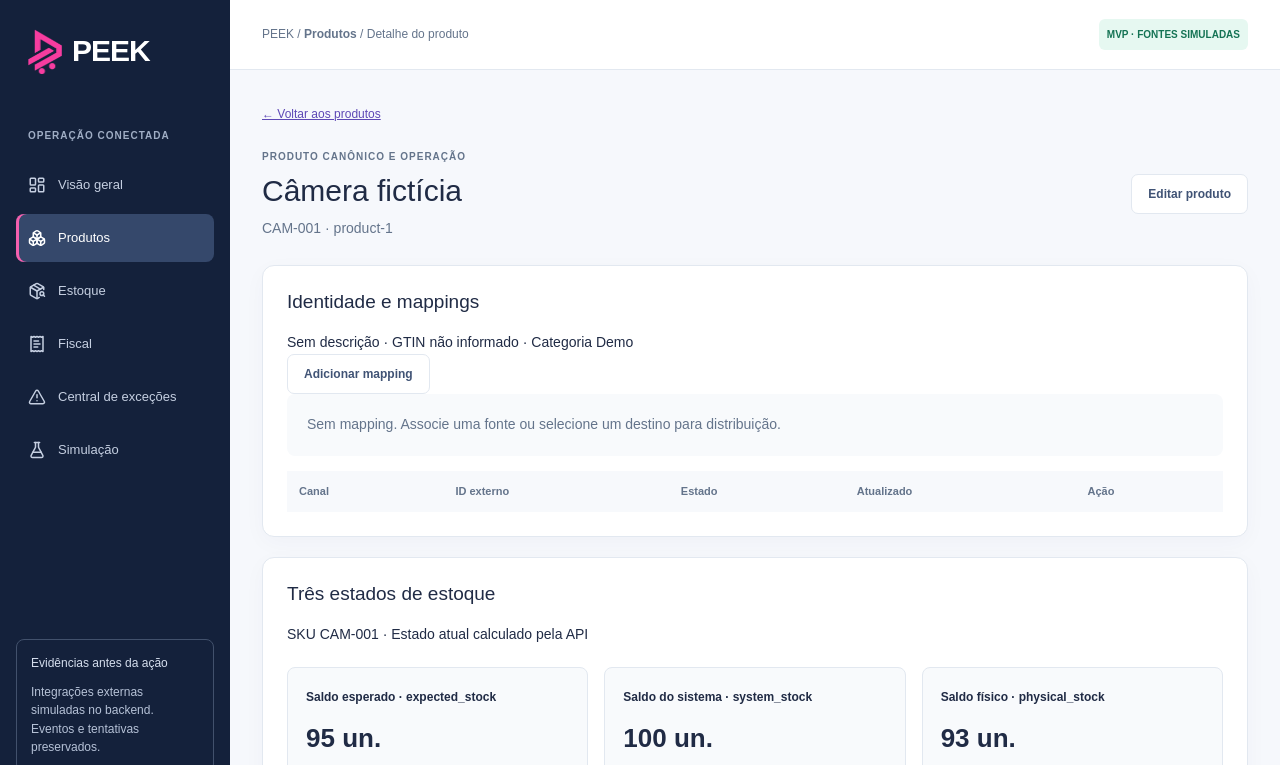
Test: Products and mappings › saves a pending mapping with no external id
Click the button "Adicionar mapping" at (358, 374), box [287,354,430,394]
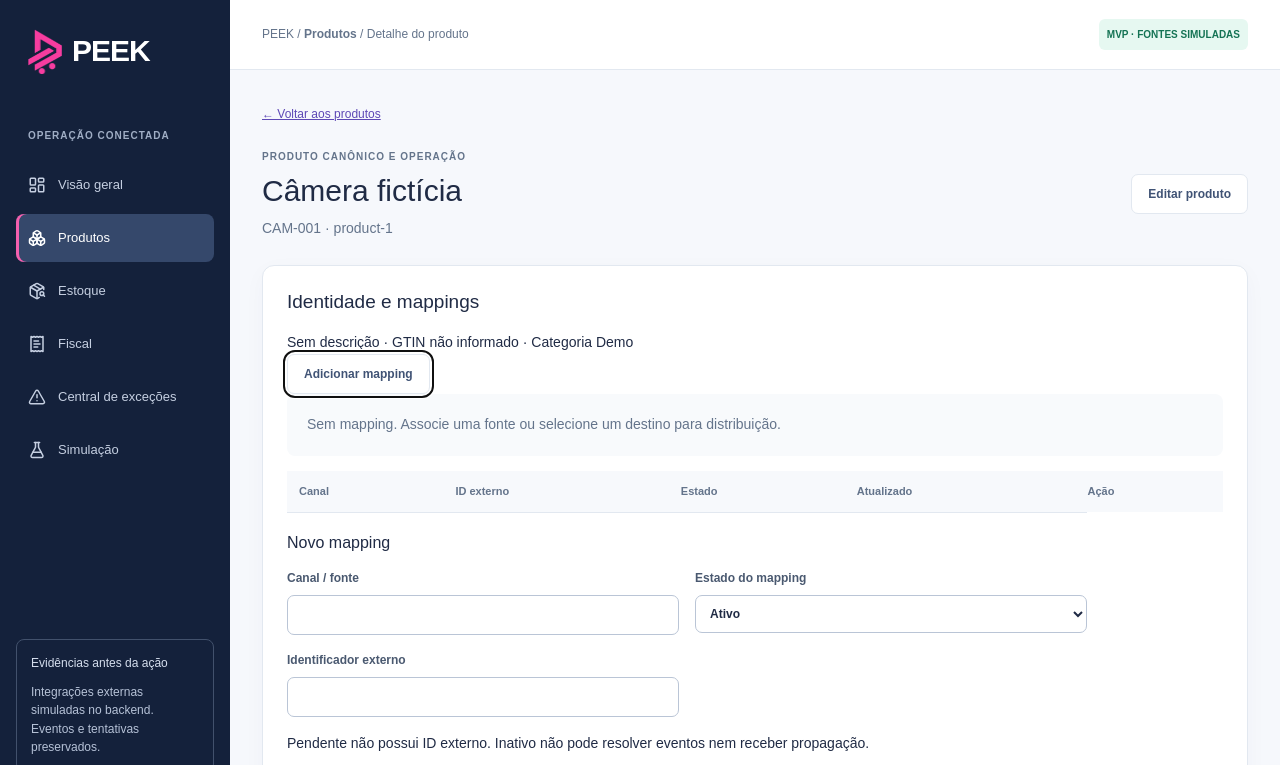
Type "source" into the field labelled "Canal / fonte" at (483, 615), box [287,595,679,635]
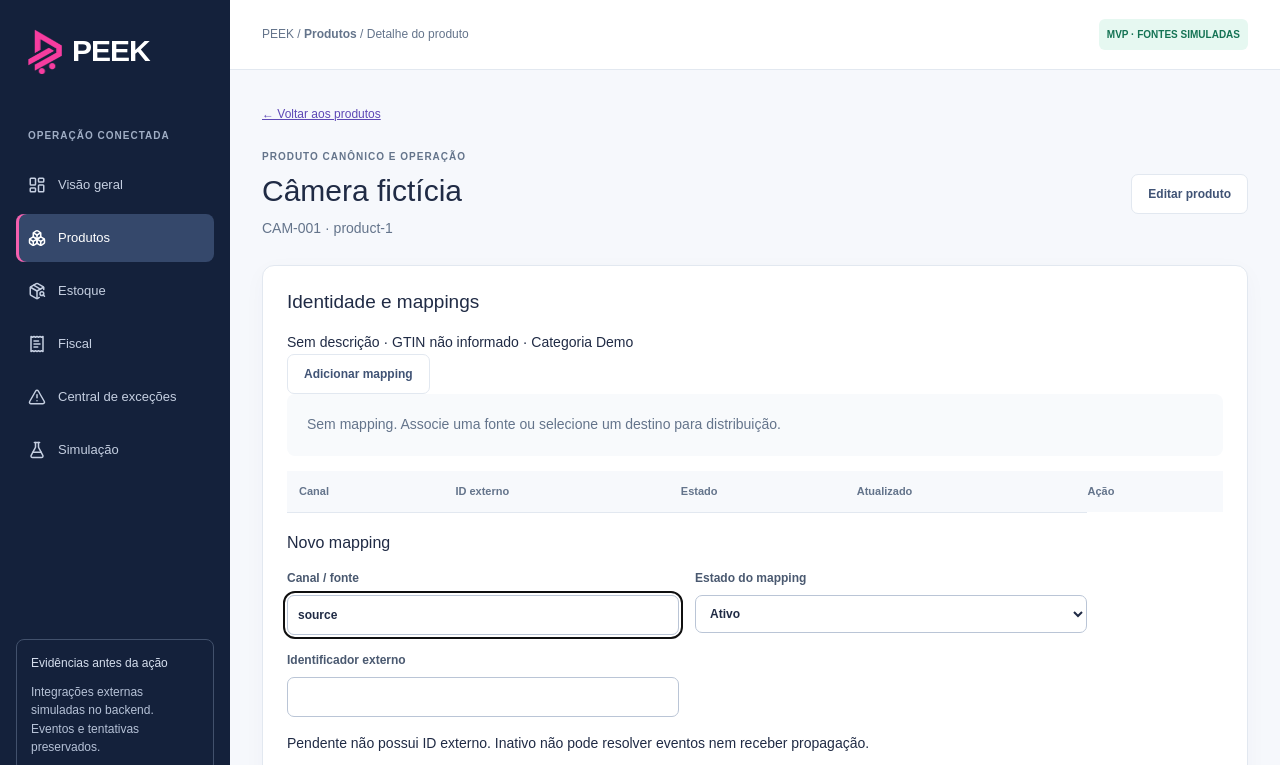
Select "Pendente" in the dropdown labelled "Estado do mapping" at (891, 614), box [695,595,1087,633]
(page scrolled)
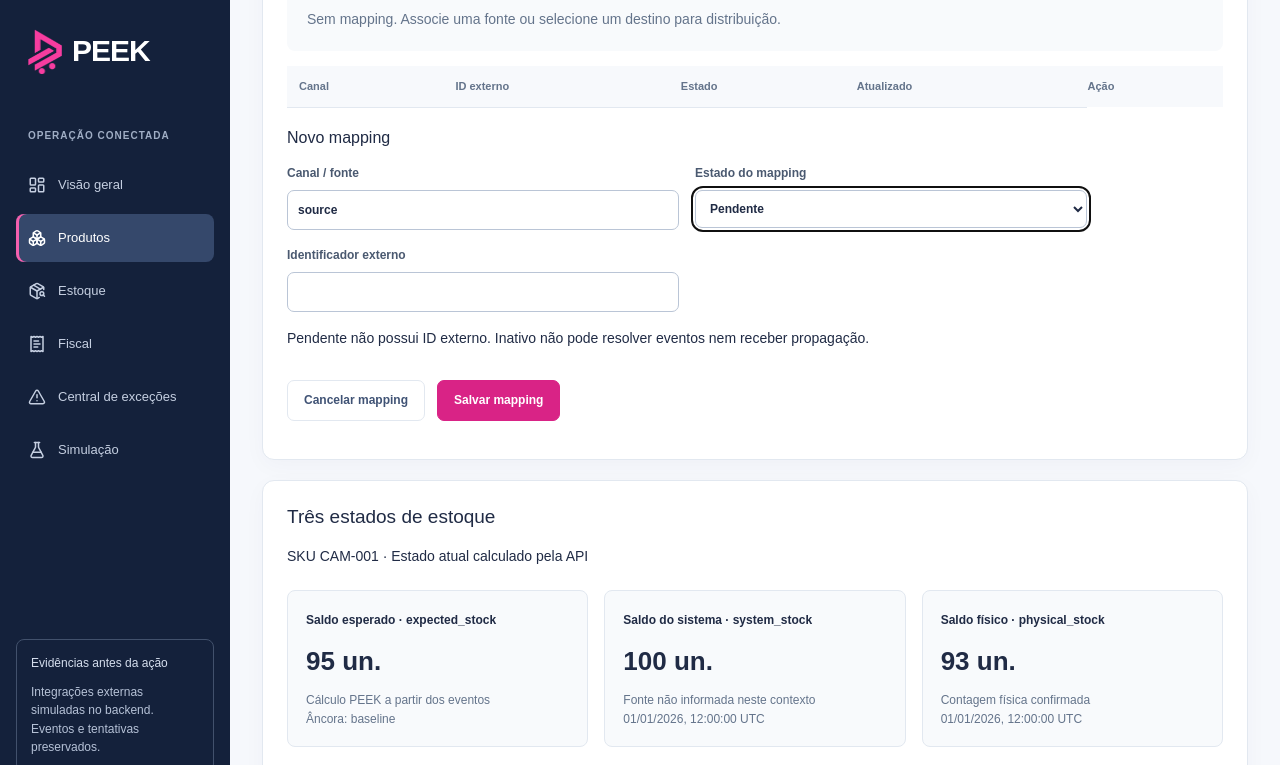
Expected: the field labelled "Identificador externo" is disabled, [287,272,679,312]
Click the button "Salvar mapping" at (499, 400), box [437,380,560,421]
(page scrolled)
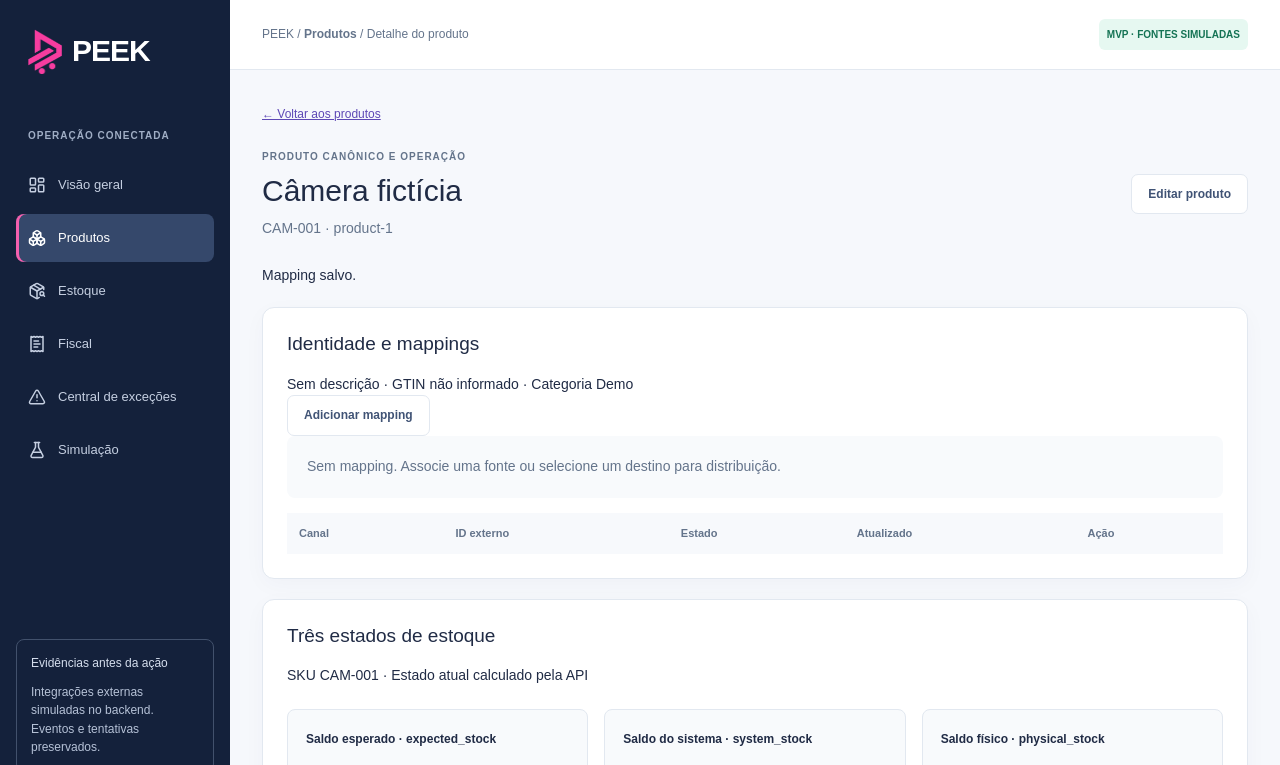
Expected: the text "Mapping salvo." is shown, [262,267,356,283]
